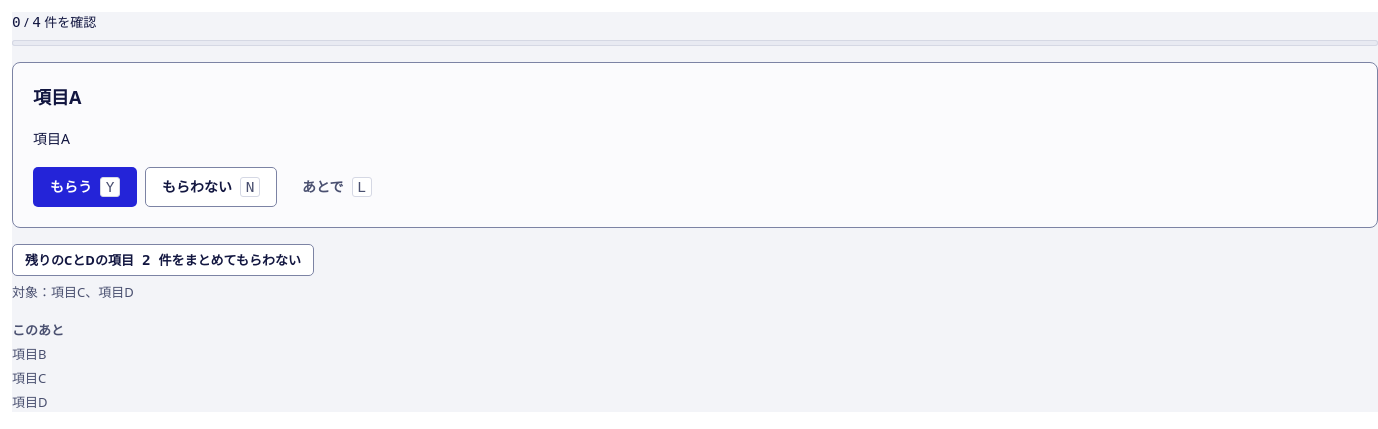
Test case: DecisionQueue bulk and focus › offers the shortcut with its reason, and the result can still be undone
The image size is (1378, 429).
Click the button "残りのCとDの項目 2 件をまとめてもらわない" at x=163, y=260, box [12,244,314,276]
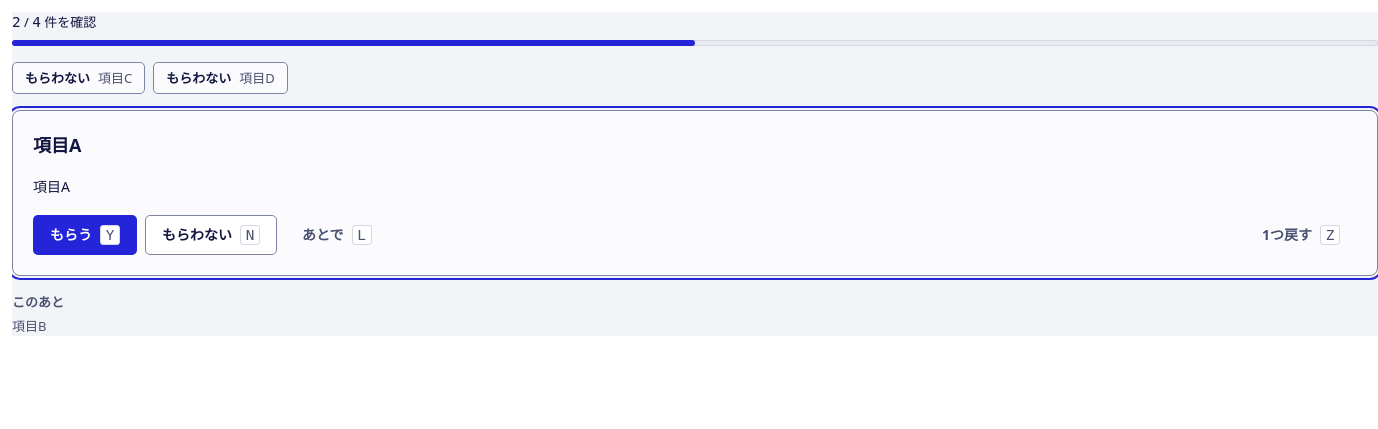
Check: the text "件を確認" reads "2 / 4 件を確認", box [12,12,96,32]
Check: the button "まとめて" is gone
Click the button "1つ戻す Z" at x=1301, y=235, box [1245,215,1357,255]
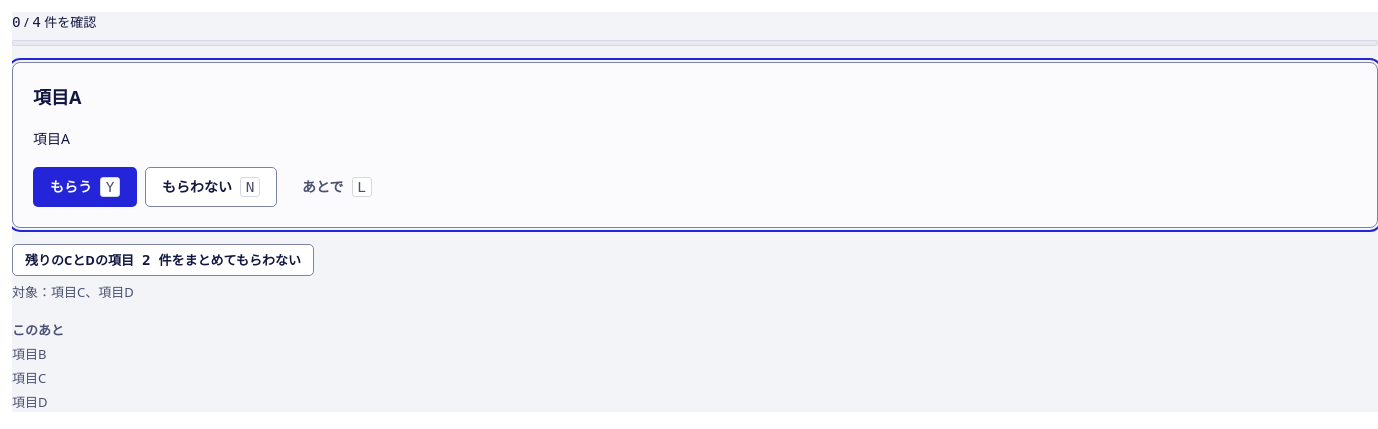
Check: the text "件を確認" reads "0 / 4 件を確認", box [12,12,96,32]
